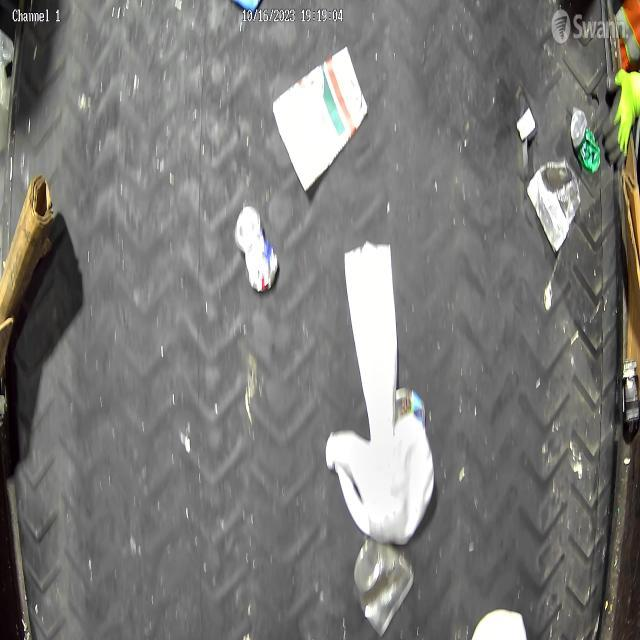can: (351, 535, 416, 640), (526, 158, 582, 254), (233, 204, 280, 296), (569, 101, 601, 175)
milk_jug: (326, 422, 434, 550)
